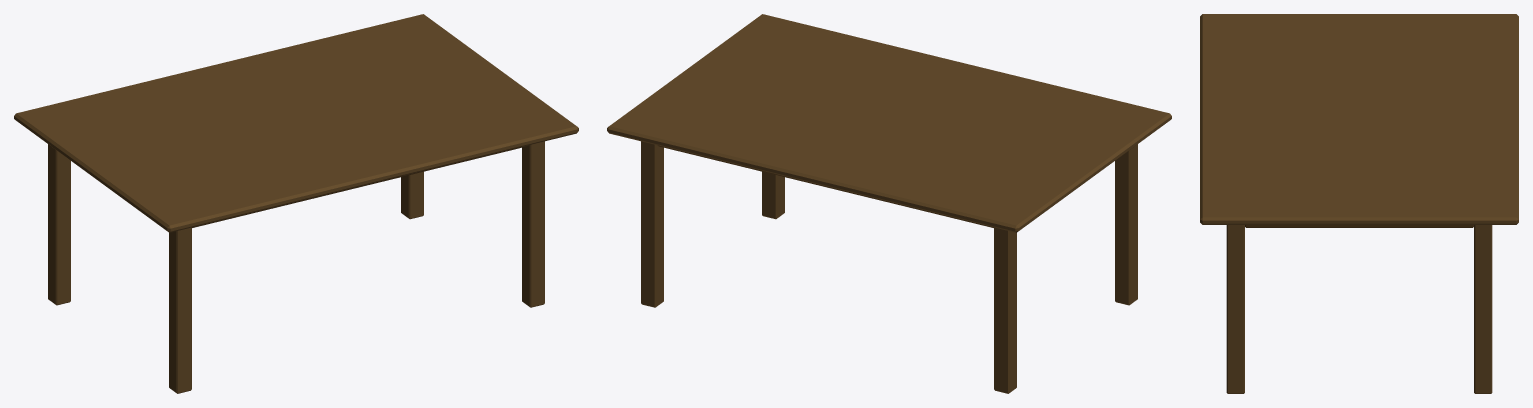
The model's file is Mesa Simples.fbx.
3 renders of one model, left to right at view 1: azimuth 30°, elevation 25°; view 2: azimuth 150°, elevation 25°; view 3: azimuth 270°, elevation 25°, orthographic. The views are drawn at different scales.
Visible parts, largest first — view 1: Tampa, Pes, Junta; view 2: Tampa, Pes, Junta; view 3: Tampa, Pes, Junta.001.
Part boxes in pixels (bbox=[...]): Tampa: bbox=[14, 14, 578, 232]; Pes: bbox=[48, 141, 544, 393]; Junta: bbox=[192, 145, 527, 227]; Tampa: bbox=[607, 14, 1171, 232]; Pes: bbox=[641, 141, 1137, 393]; Junta: bbox=[658, 145, 993, 227]; Tampa: bbox=[1200, 14, 1518, 224]; Pes: bbox=[1226, 225, 1492, 393]; Junta.001: bbox=[1245, 225, 1473, 227].
Size of the model in its own units: 197 by 83.32 by 129.
